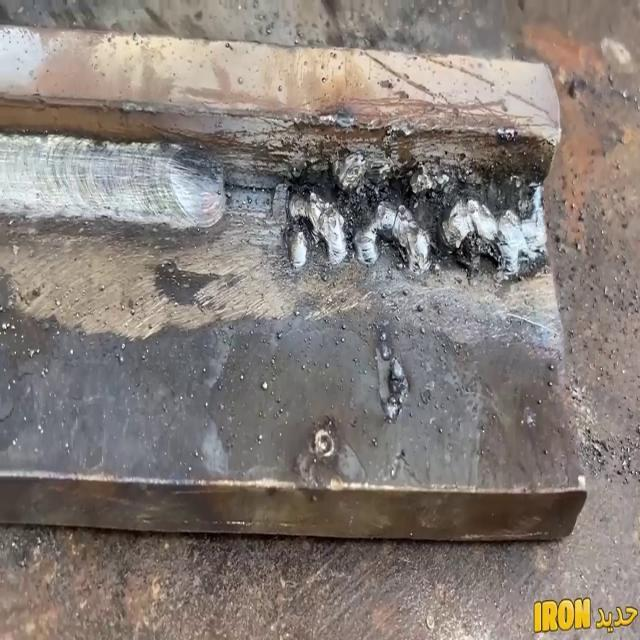Bad Weld: (285, 138, 547, 286)
Good Weld: (0, 128, 225, 246)
